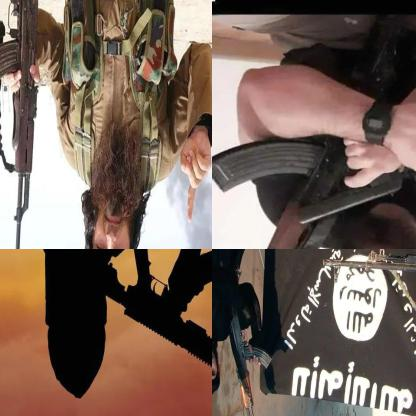pistol: (291, 161, 405, 226)
rifle: (212, 18, 411, 248), (102, 249, 211, 415), (0, 0, 44, 248), (317, 249, 415, 298), (230, 312, 276, 415)
